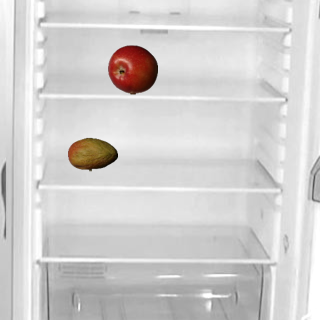Apple Braeburn: (107, 44, 157, 94)
Papaya: (67, 129, 117, 179)
